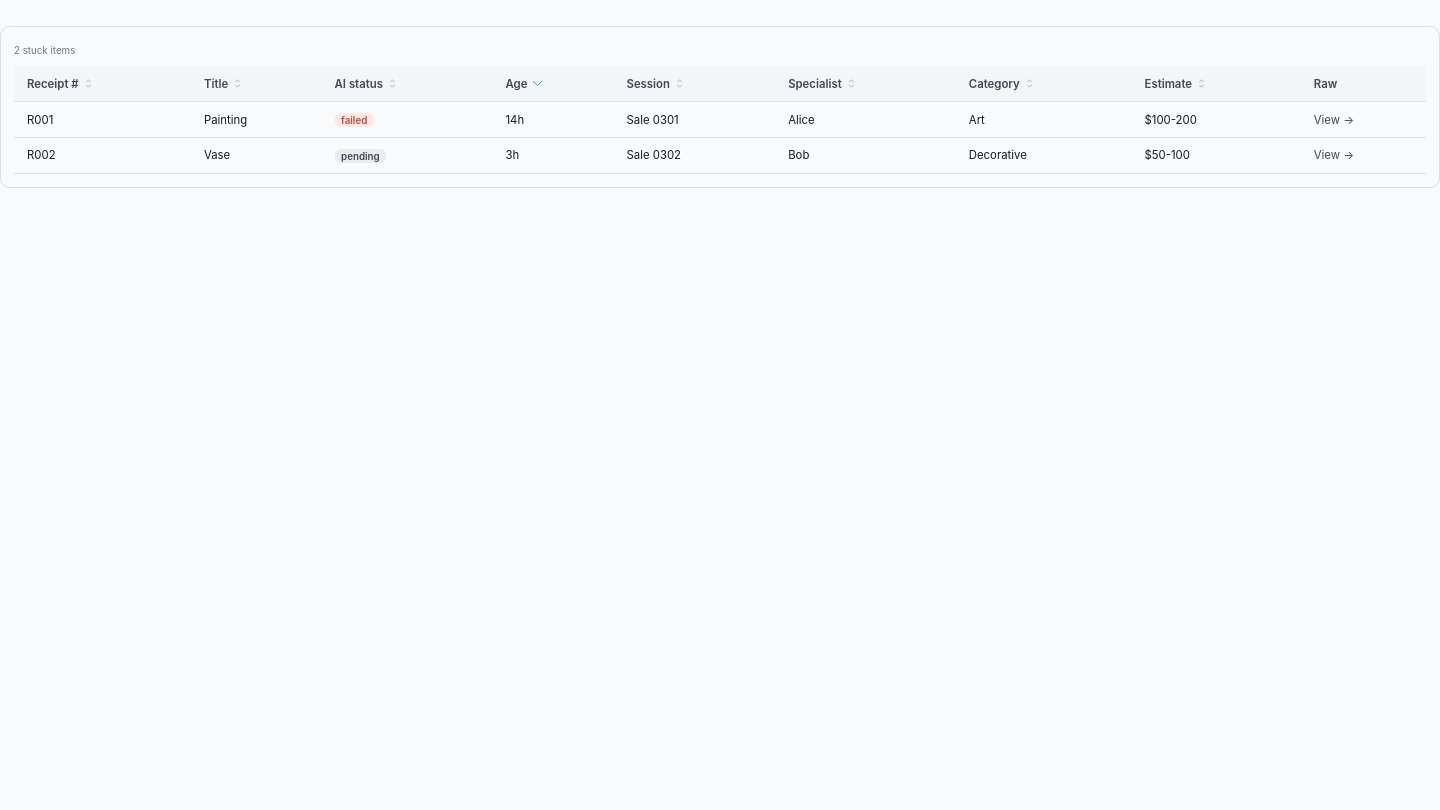
Scenario: <StuckItemsTable> › Test 10: dev Raw cell opens PayloadViewerModal; admin sees no Raw cell
The width and height of the screenshot is (1440, 810).
// Click the first View → opens the modal with the corresponding row's payload.
Step 1. Click the button "View →" in the row of "R001" → (1334, 120), box [1314, 112, 1354, 128]
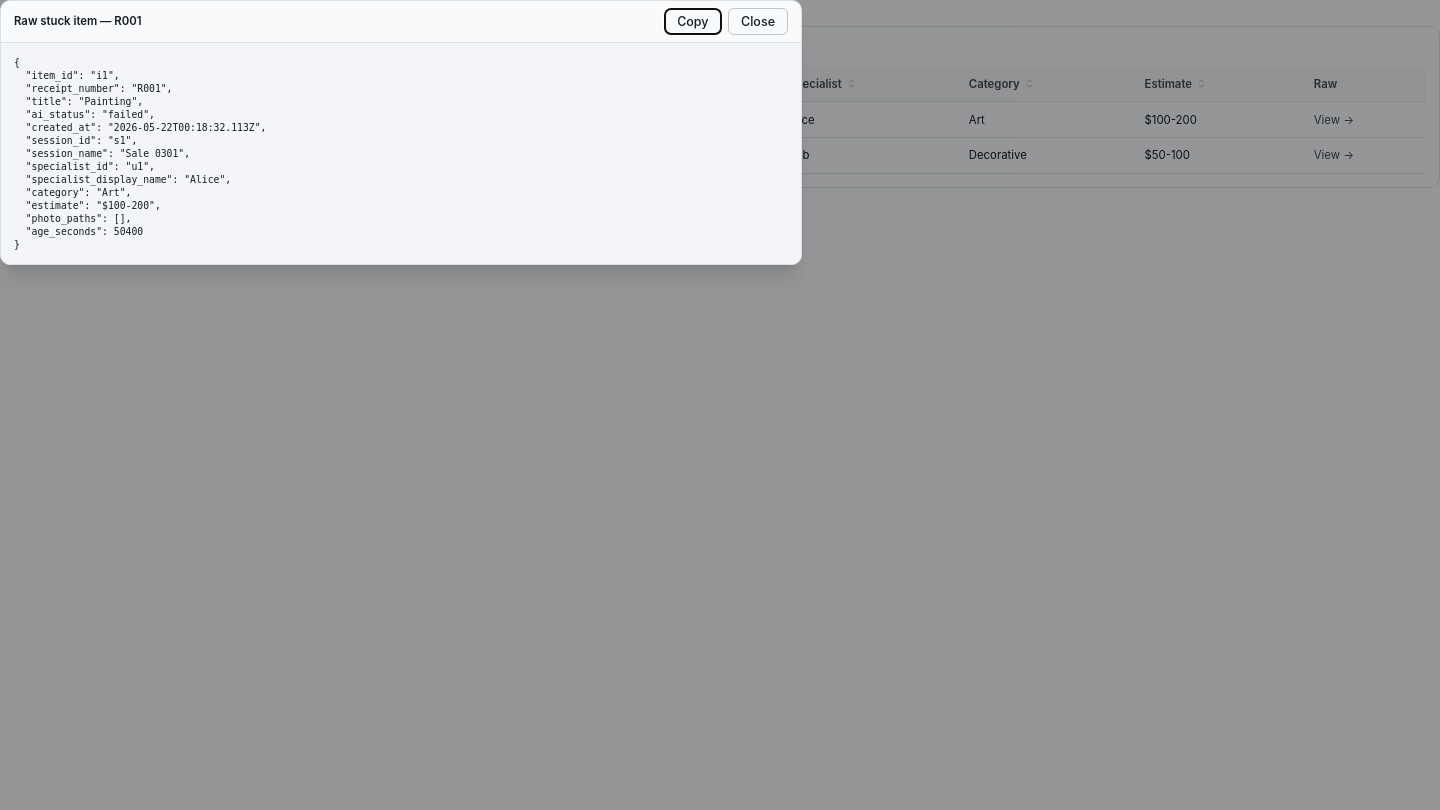
Result: the heading "Raw stuck item — R001" is shown at [14, 13, 142, 30]
